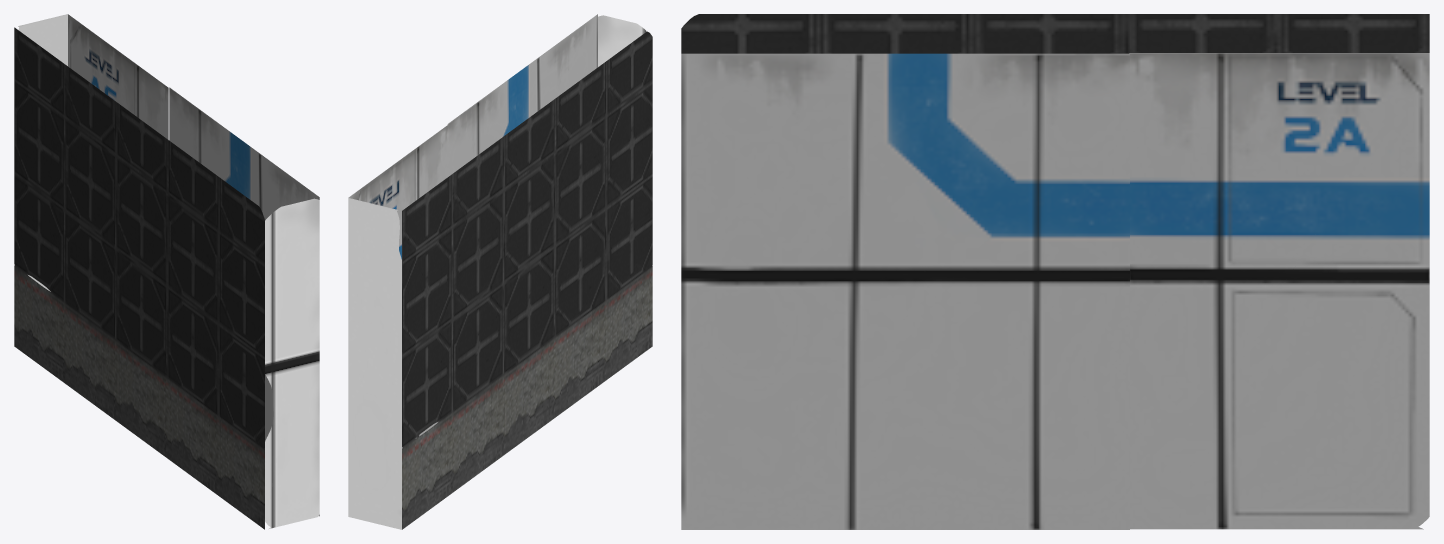
File: window14.obj
3 renders of one model, left to right at view 1: azimuth 30°, elevation 25°; view 2: azimuth 150°, elevation 25°; view 3: azimuth 270°, elevation 25°, orthographic. The views are drawn at different scales.
Visible parts, largest first — view 1: window14; view 2: window14; view 3: window14.
Part boxes in pixels (box(x1,y1,x2,y2)): window14: box(14, 14, 319, 529); window14: box(348, 14, 652, 529); window14: box(681, 14, 1429, 529).
Size of the model in its own units: 2.04 by 11.36 by 16.17.
